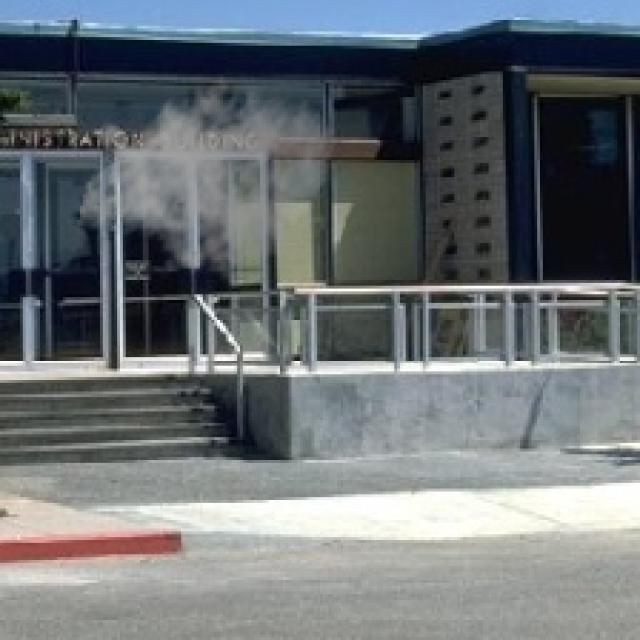Smoke: (77, 66, 337, 283)
